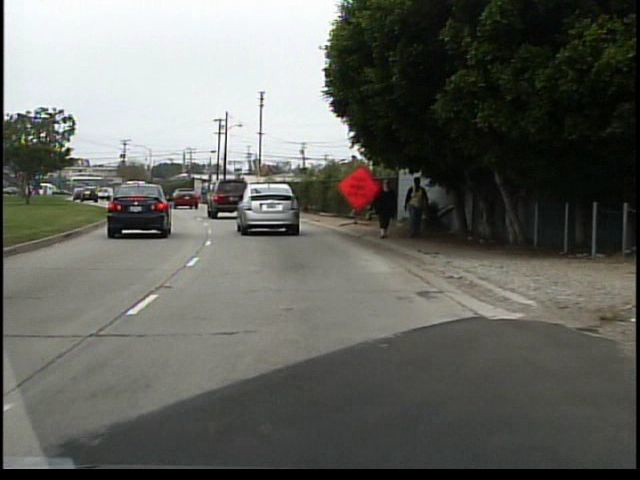person: (363, 173, 401, 245), (400, 176, 428, 242)
